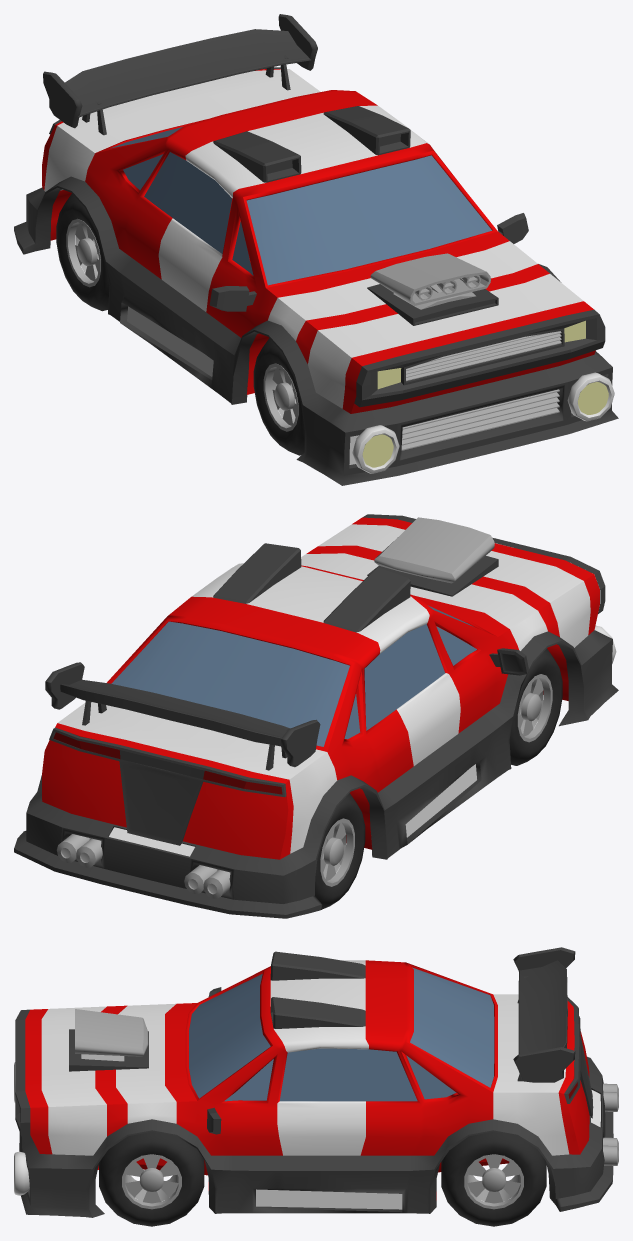
File: muscle_blinnLines.glb
The picture shows the model from 3 angles, top to bottom: view 1: azimuth 30°, elevation 25°; view 2: azimuth 150°, elevation 25°; view 3: azimuth 270°, elevation 25°; orthographic projection. The views are drawn at different scales.
Visible parts, largest first — view 1: body:PIV, sill4:PIV, frontGlass:PIV, Spoiler4:PIV, frontBlockGrid:PIV, glasseBigR:PIV, engine:PIV, front_down_grid:PIV, airtrap_r:PIV, airtrap_l:PIV, front_up_grid:PIV, tire_rf:PIV (+12 smaller); view 2: body:PIV, sill4:PIV, BackGlassGlass:PIV, Spoiler4:PIV, blockBackLights:PIV, engine:PIV, glasseBigR:PIV, airtrap_r:PIV, airtrap_l:PIV, tire_rf2:PIV, tire_rf:PIV, rim_A_rf:PIV (+10 smaller); view 3: body:PIV, sill4:PIV, BackGlassGlass:PIV, Spoiler4:PIV, glasseBigL:PIV, frontGlass:PIV, tire_lf:PIV, tire_lb:PIV, engine:PIV, sillPartL:PIV, rim_A_lf:PIV, rim_A_lb:PIV (+10 smaller).
Boxes of the visible parts, box(x1,y1,x2,y2) form: body:PIV: box(42, 69, 595, 413); sill4:PIV: box(14, 176, 618, 485); frontGlass:PIV: box(246, 155, 491, 285); Spoiler4:PIV: box(43, 14, 317, 135); frontBlockGrid:PIV: box(354, 309, 605, 407); glasseBigR:PIV: box(144, 152, 232, 253); engine:PIV: box(370, 253, 490, 309); front_down_grid:PIV: box(401, 389, 559, 450); airtrap_r:PIV: box(213, 131, 301, 182); airtrap_l:PIV: box(323, 106, 410, 155); front_up_grid:PIV: box(406, 331, 561, 381); tire_rf:PIV: box(56, 194, 109, 311); body:PIV: box(42, 517, 599, 859); sill4:PIV: box(14, 630, 618, 918); BackGlassGlass:PIV: box(111, 621, 349, 746); Spoiler4:PIV: box(45, 662, 320, 770); blockBackLights:PIV: box(49, 727, 286, 845); engine:PIV: box(374, 517, 494, 583); glasseBigR:PIV: box(364, 624, 444, 730); airtrap_r:PIV: box(323, 567, 410, 632); airtrap_l:PIV: box(213, 543, 301, 603); tire_rf2:PIV: box(509, 648, 562, 765); tire_rf:PIV: box(315, 793, 365, 909); rim_A_rf:PIV: box(517, 674, 552, 742); body:PIV: box(25, 960, 589, 1200); sill4:PIV: box(19, 1056, 613, 1217); BackGlassGlass:PIV: box(410, 967, 494, 1087); Spoiler4:PIV: box(513, 947, 575, 1082); glasseBigL:PIV: box(279, 1048, 417, 1101); frontGlass:PIV: box(189, 974, 270, 1098); tire_lf:PIV: box(99, 1132, 204, 1226); tire_lb:PIV: box(441, 1132, 546, 1226); engine:PIV: box(75, 1009, 148, 1061); sillPartL:PIV: box(256, 1189, 402, 1209); rim_A_lf:PIV: box(122, 1154, 181, 1209); rim_A_lb:PIV: box(464, 1154, 523, 1209).
Size of the model in its own units: 177 by 120 by 337.
